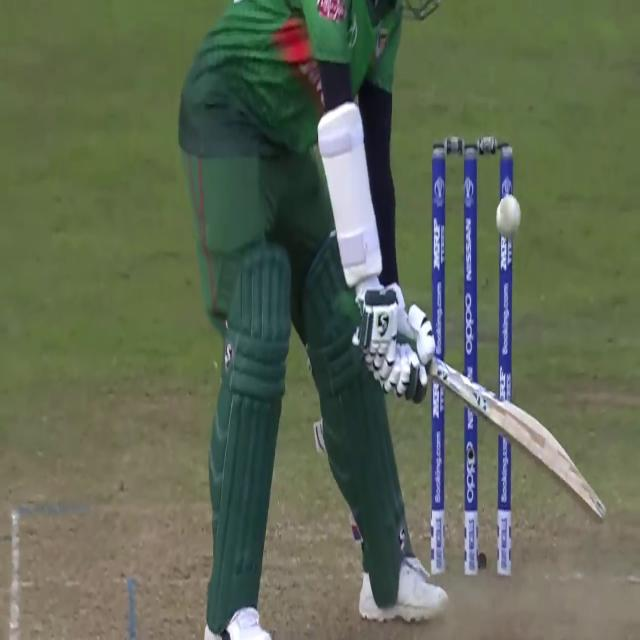ball: (493, 193, 525, 248)
